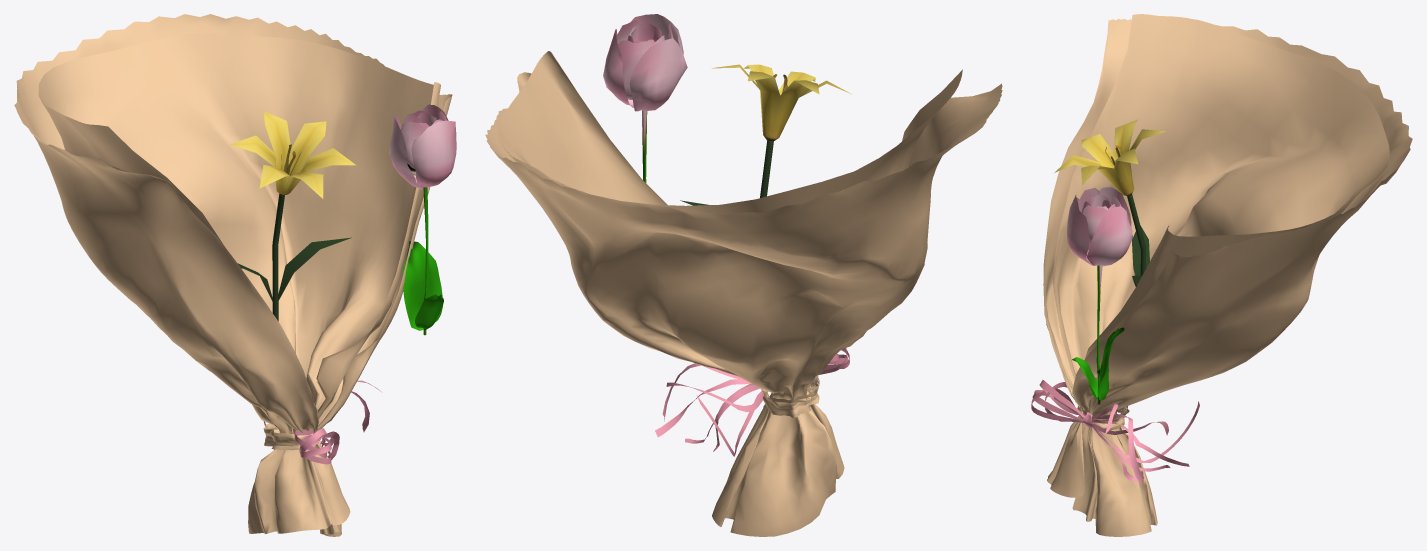
3 renders of one model, left to right at view 1: azimuth 30°, elevation 25°; view 2: azimuth 150°, elevation 25°; view 3: azimuth 270°, elevation 25°, orthographic. The views are drawn at different scales.
Parts seen in each view (by area): view 1: inner, outer, Geometry, SM_Lilly1, ribbon, parcel_knot; view 2: outer, inner, Geometry, SM_Lilly1, ribbon, parcel_knot; view 3: inner, outer, Geometry, SM_Lilly1, ribbon.
Part boxes in pixels (x1,y1,x2,y2): inner: (38,33,440,434); outer: (14,14,452,536); Geometry: (389,104,456,335); SM_Lilly1: (230,111,355,321); ribbon: (263,380,382,464); parcel_knot: (263,424,312,450); outer: (485,72,1002,536); inner: (498,51,962,214); Geometry: (603,14,687,182); SM_Lilly1: (680,64,851,205); ribbon: (655,348,849,456); parcel_knot: (761,375,819,417); inner: (1052,14,1389,380); outer: (1043,18,1412,536); Geometry: (1067,187,1132,404); SM_Lilly1: (1054,119,1165,286); ribbon: (1031,380,1199,484).
Bounding box in the file's own units: 1.81 × 1.9 × 1.55.
7 materials, 2 textured.
